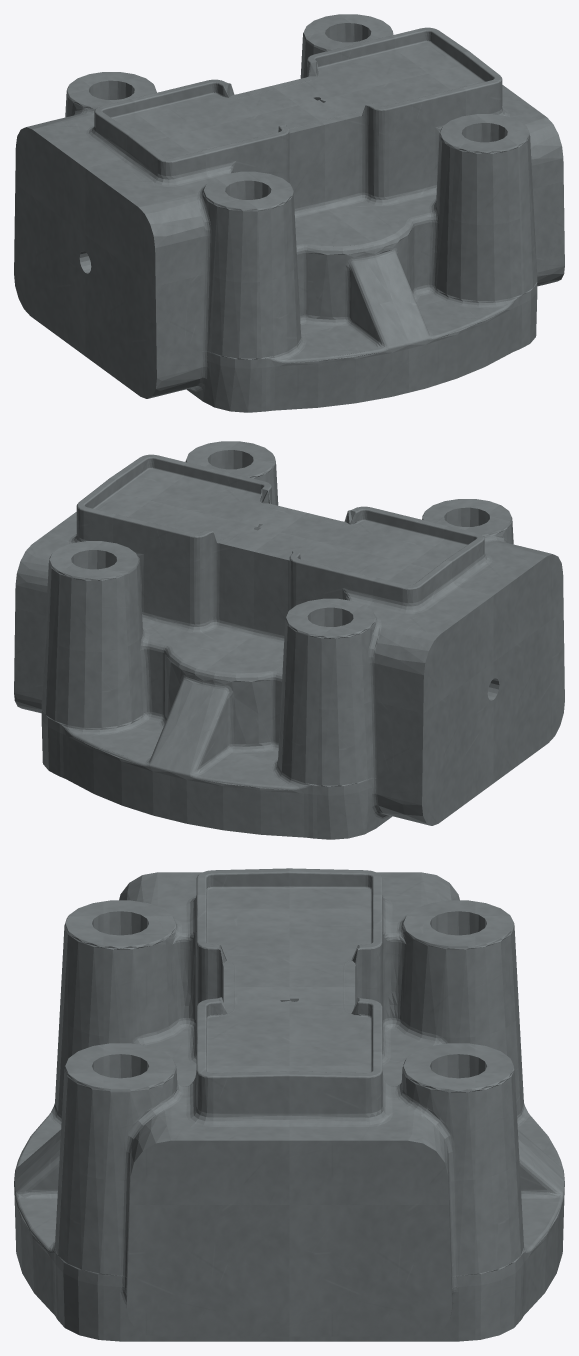
The model's file is Part_green.glb.
3 renders of one model, top to bottom at view 1: azimuth 30°, elevation 25°; view 2: azimuth 150°, elevation 25°; view 3: azimuth 270°, elevation 25°, orthographic. The views are drawn at different scales.
Bounding box in the file's own units: 0.0613 × 0.031 × 0.0571.
4 materials, 4 textured.
